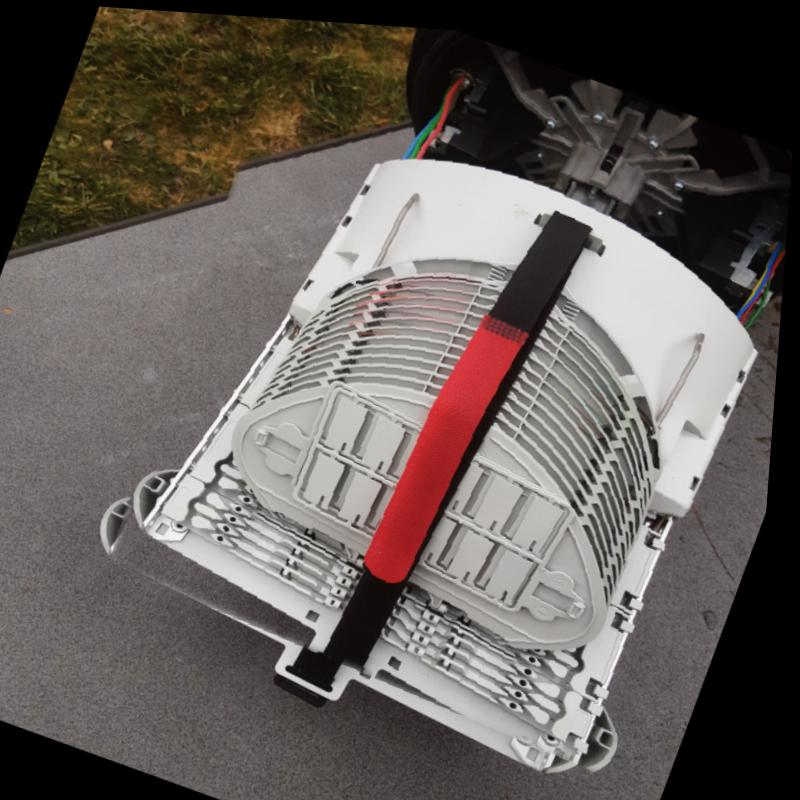NT-Muffen: (71, 6, 800, 793)
